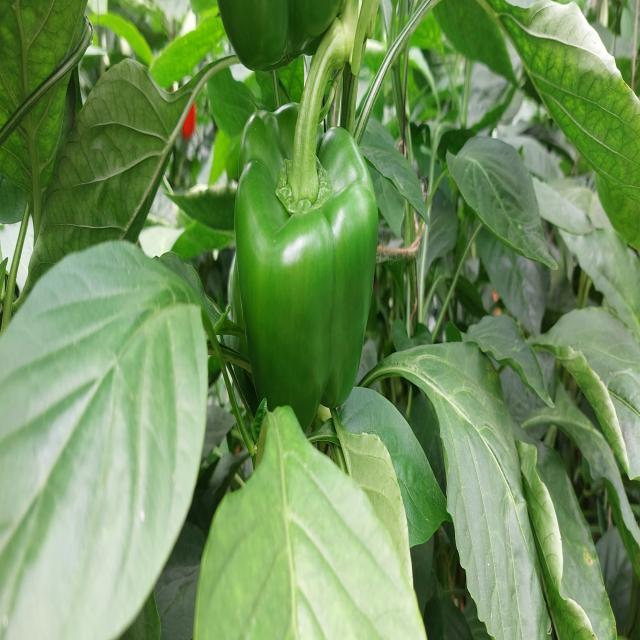Green--Not-ready-to-harvest: (238, 120, 373, 439)
